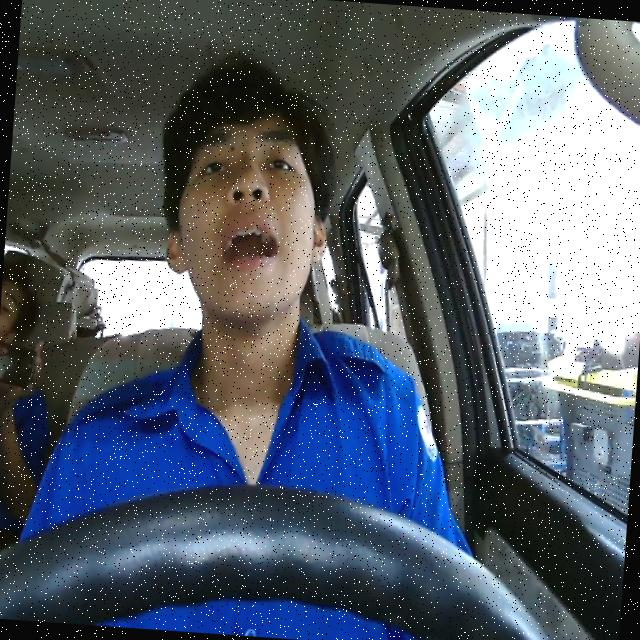yarning: (159, 108, 334, 328)
